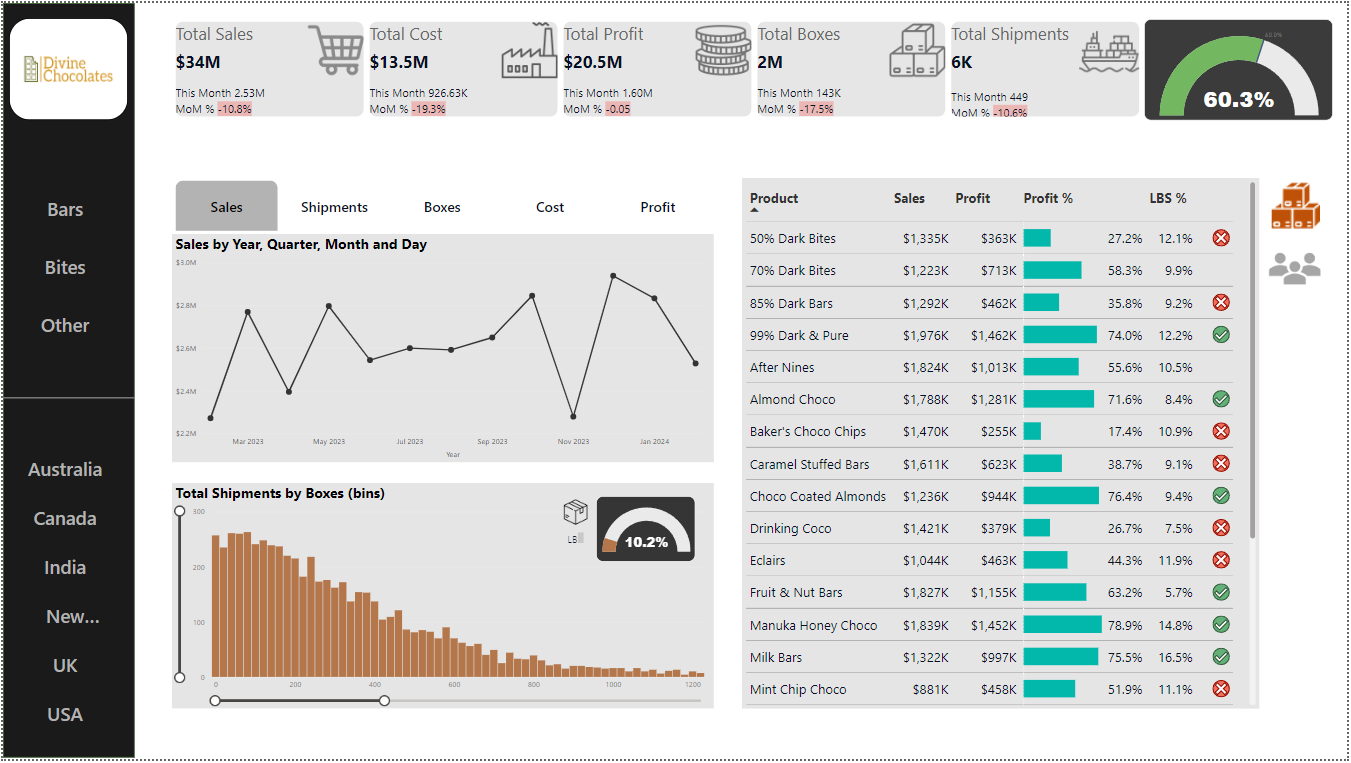

This screenshot's page, from the dashboard's own definition file:
{"tool":"powerbi","page":{"name":"Sales Report","canvas":[1920,1080],"ordinal":0},"visuals":[{"type":"shape","box":[0,0,188,1078],"z":0},{"type":"cardVisual","fields":{"Data":["_measures.Total Sales","_measures.Total Cost","_measures.Total Profit","_measures.Total Boxes","_measures.Total Shipments"]},"box":[242,22,1388,146],"z":1000},{"type":"gauge","fields":{"Y":["_measures.Profit %"]},"box":[1630,22.5,270,145],"z":2000},{"type":"lineChart","fields":{"Y":["_measures.Total Sales"],"Category":["calendar.Start of Month.Variation.Date Hierarchy.Year","calendar.Start of Month.Variation.Date Hierarchy.Quarter","calendar.Start of Month.Variation.Date Hierarchy.Month","calendar.Start of Month.Variation.Date Hierarchy.Day"]},"box":[242,330,774,326],"z":4000},{"type":"clusteredColumnChart","fields":{"Category":["shipments.Boxes (bins)"],"Y":["_measures.Total Shipments"]},"box":[242,686,774,322],"z":5000,"group":"g1"},{"type":"advancedSlicerVisual","fields":{"Values":["Measure Selector.Measure Selector"]},"box":[242,248,776,82],"z":5000},{"type":"gauge","fields":{"Y":["_measures.LBS %"]},"box":[848,705,142.4,94],"z":6000,"group":"g1"},{"type":"group","id":"g1","title":"Group 1","box":[242,686,774,322],"z":6000},{"type":"image","box":[791.1,705,56.9,46.2],"z":7000,"group":"g1"},{"type":"textbox","box":[802.1,751.3,33.2,29.3],"z":8000,"group":"g1"},{"type":"tableEx","title":"product details","fields":{"Values":["products.Product","_measures.Total Sales","_measures.Total Profit","_measures.Profit %","_measures.LBS %","_measures.Profit Target Indicator"]},"box":[1055.3,250,739.5,757.9],"z":8000},{"type":"advancedSlicerVisual","fields":{"Values":["products.Category"]},"box":[8,250,160,252],"z":10000},{"type":"advancedSlicerVisual","fields":{"Values":["shipments.Geography"]},"box":[8,628,160,424],"z":11000},{"type":"shape","box":[0,500,188,128],"z":12000},{"type":"image","title":"product_selected","box":[1792.1,250,110.5,78.9],"z":14000},{"type":"image","title":"people_not_selected","box":[1792.1,332.9,107.9,93.4],"z":15000},{"type":"image","box":[8.6,21.4,170,145.7],"z":15001}]}

Visuals, with their boxes in screenshot pixels (x1, y1, x2, y2), scaled from the page's 1920x1080 canvas onto the 1351x763 screenshot:
shape: (0,0,132,762)
cardVisual - _measures.Total Sales x _measures.Total Cost: (170,16,1147,119)
gauge - _measures.Profit %: (1147,16,1337,118)
lineChart - _measures.Total Sales x calendar.Start of Month.Variation.Date Hierarchy.Year: (170,233,715,463)
clusteredColumnChart - shipments.Boxes (bins) x _measures.Total Shipments: (170,485,715,712)
advancedSlicerVisual - Measure Selector.Measure Selector: (170,175,716,233)
gauge - _measures.LBS %: (597,498,697,564)
"Group 1" group: (170,485,715,712)
image: (557,498,597,531)
textbox: (564,531,588,551)
"product details" tableEx: (743,177,1263,712)
advancedSlicerVisual - products.Category: (6,177,118,355)
advancedSlicerVisual - shipments.Geography: (6,444,118,743)
shape: (0,353,132,444)
"product_selected" image: (1261,177,1339,232)
"people_not_selected" image: (1261,235,1337,301)
image: (6,15,126,118)
